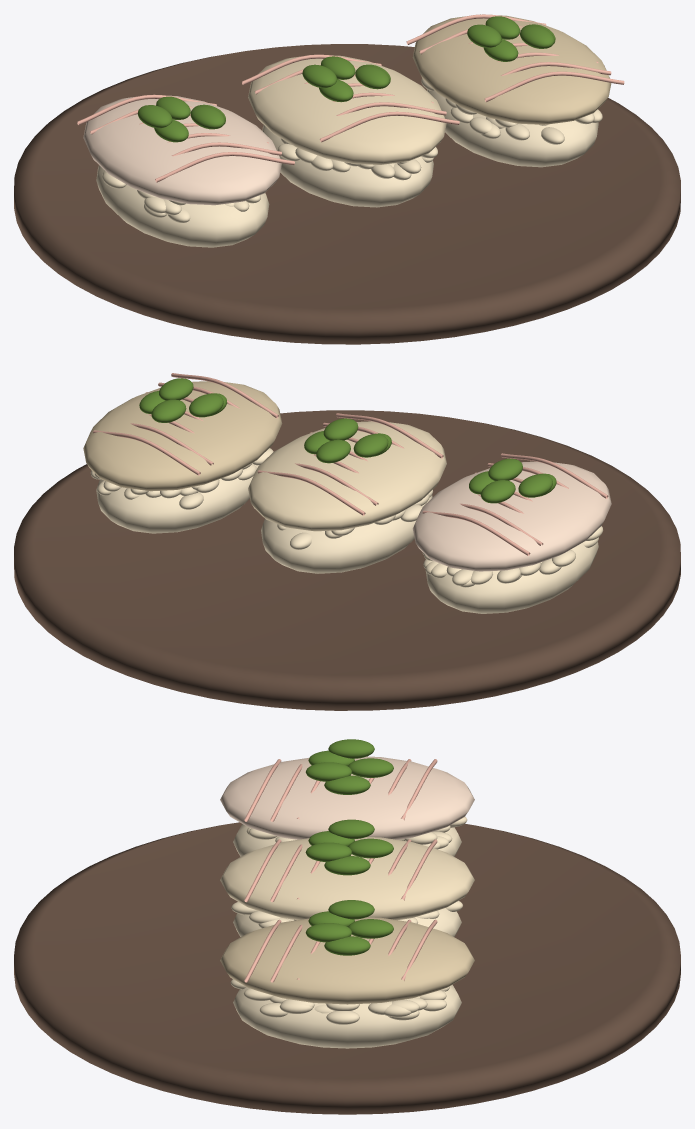
Rendered from 23-white-trio.glb.
3 views of the same model, one above another, from view 1: azimuth 30°, elevation 25°; view 2: azimuth 150°, elevation 25°; view 3: azimuth 270°, elevation 25° (orthographic).
Visible parts, largest first — view 1: 흰살생선 초밥 3종; view 2: 흰살생선 초밥 3종; view 3: 흰살생선 초밥 3종.
Part boxes in pixels (box(x1,y1,x2,y2)): 흰살생선 초밥 3종: box(14, 14, 680, 344); 흰살생선 초밥 3종: box(14, 373, 680, 710); 흰살생선 초밥 3종: box(14, 739, 680, 1114).
Size of the model in its own units: 2 by 0.521 by 2.
